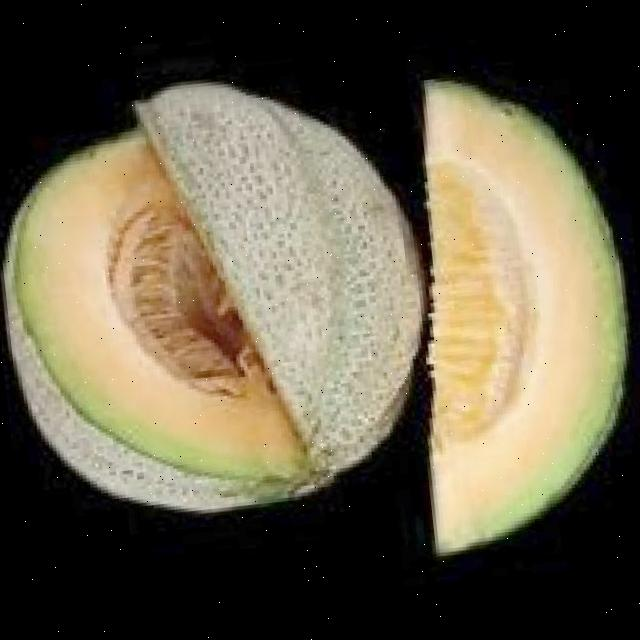Hami Melon: (0, 63, 444, 529)
